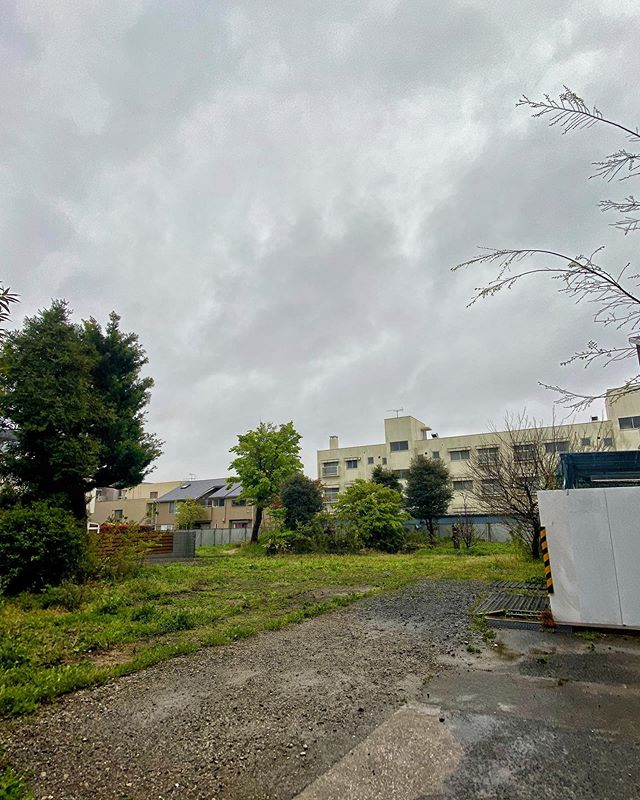building: (314, 383, 640, 505), (153, 477, 213, 544), (209, 475, 267, 541)
sky: (1, 1, 624, 387)
tree: (1, 305, 157, 493), (226, 426, 297, 531), (328, 476, 406, 553), (277, 465, 328, 541), (411, 453, 452, 541)
